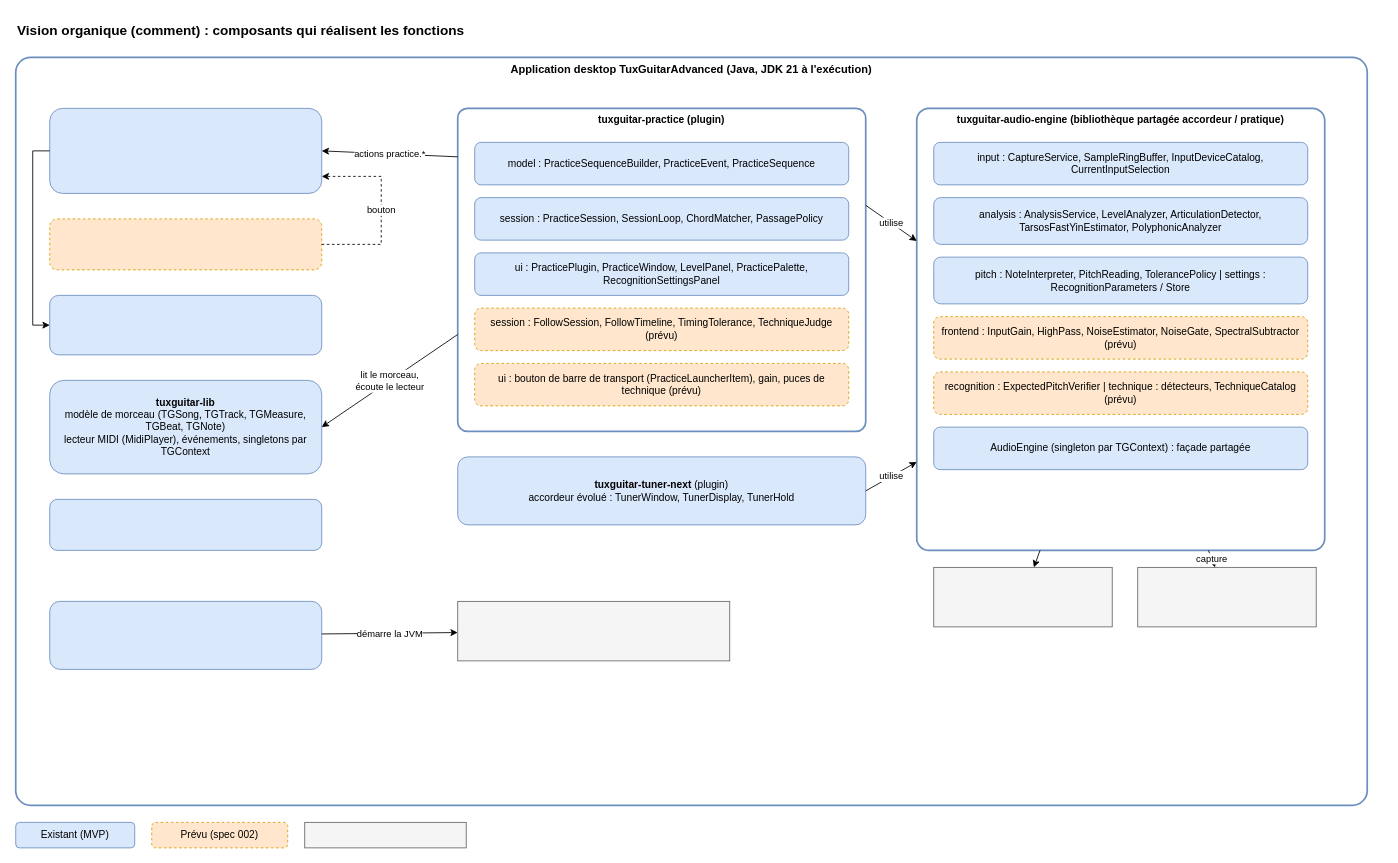
The diagram is 1398 pixels wide and 863 high, and some of its shapes have lost their labels. Each missing label, with the centre of its shape:
"Acteur / élément externe" belongs at point (385, 835).
"Java Sound (TargetDataLine, JDK)" belongs at point (1226, 597).
"JRE Temurin 21 embarqué (Contents/MacOS/jre)" belongs at point (593, 631).
"tarsos-dsp-core 2.5 (GPL-3.0, isolé dans le moteur)" belongs at point (1022, 597).
"TGMainToolBarItemRegistry (point d'extension de la barre, prévu)" belongs at point (185, 244).
"tuxguitar (cœur desktop) actions, barre d'outils, fenêtre, documents" belongs at point (185, 150).
"tuxguitar-editor-utils actions d'édition" belongs at point (185, 524).
"tuxguitar-launcher (C, natif macOS) signé ; nécessaire à l'autorisation du micro" belongs at point (185, 635).
"tuxguitar-ui-toolkit + -swt (macOS Cocoa)" belongs at point (185, 325).
